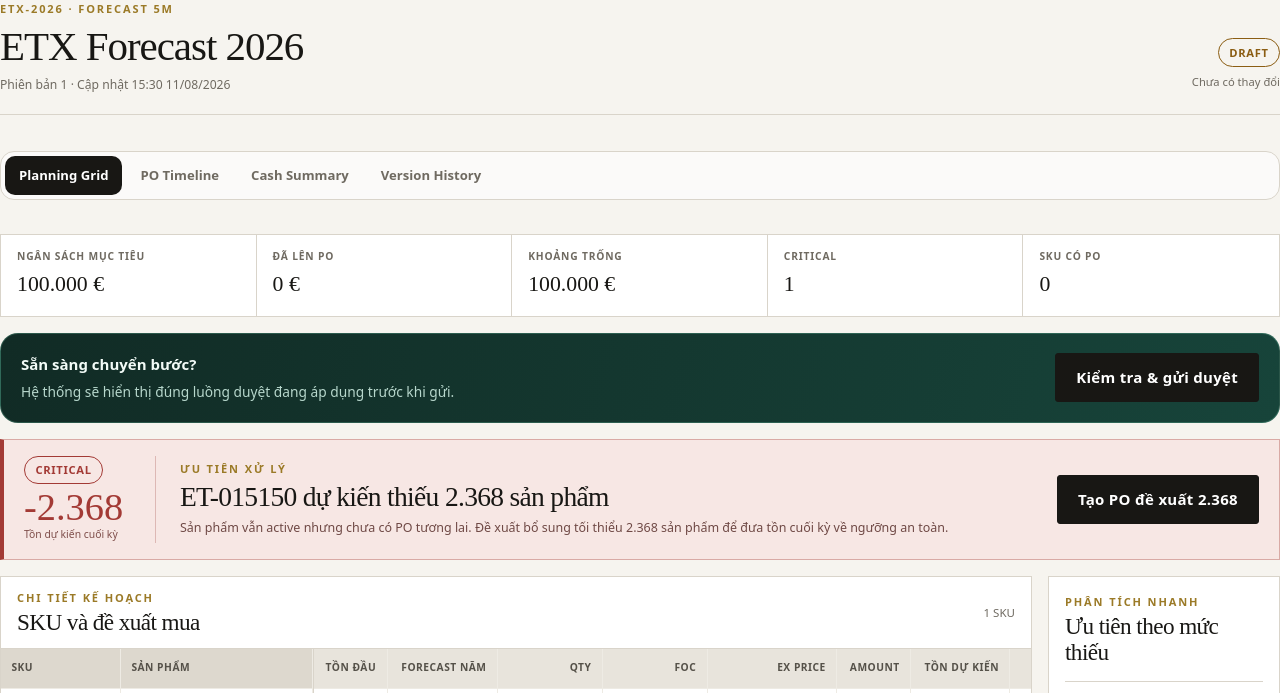
it: PlanningWorkspace › applies the recommendation and recalculates Amount from Qty × Ex Price
Click the button "Tạo PO đề xuất 2.368" at (1158, 499), box [1057,475,1259,524]
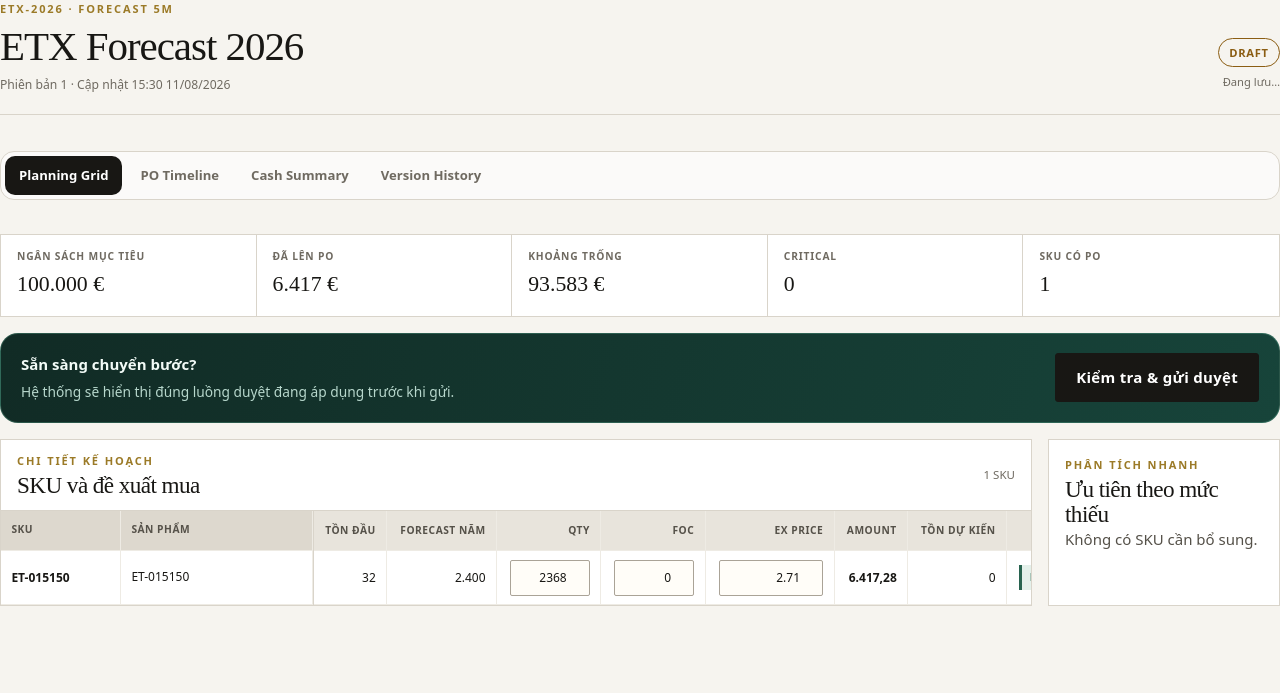
Now the number field named "Qty ET-015150" holds "2368", box [510,560,590,596]
Now the text "6.417,28" is shown, box [849,569,897,586]
